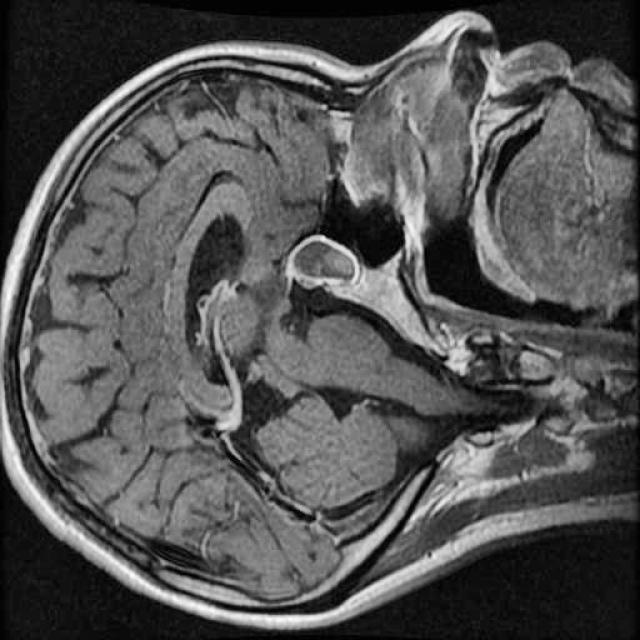Tumor: (279, 219, 370, 302)
